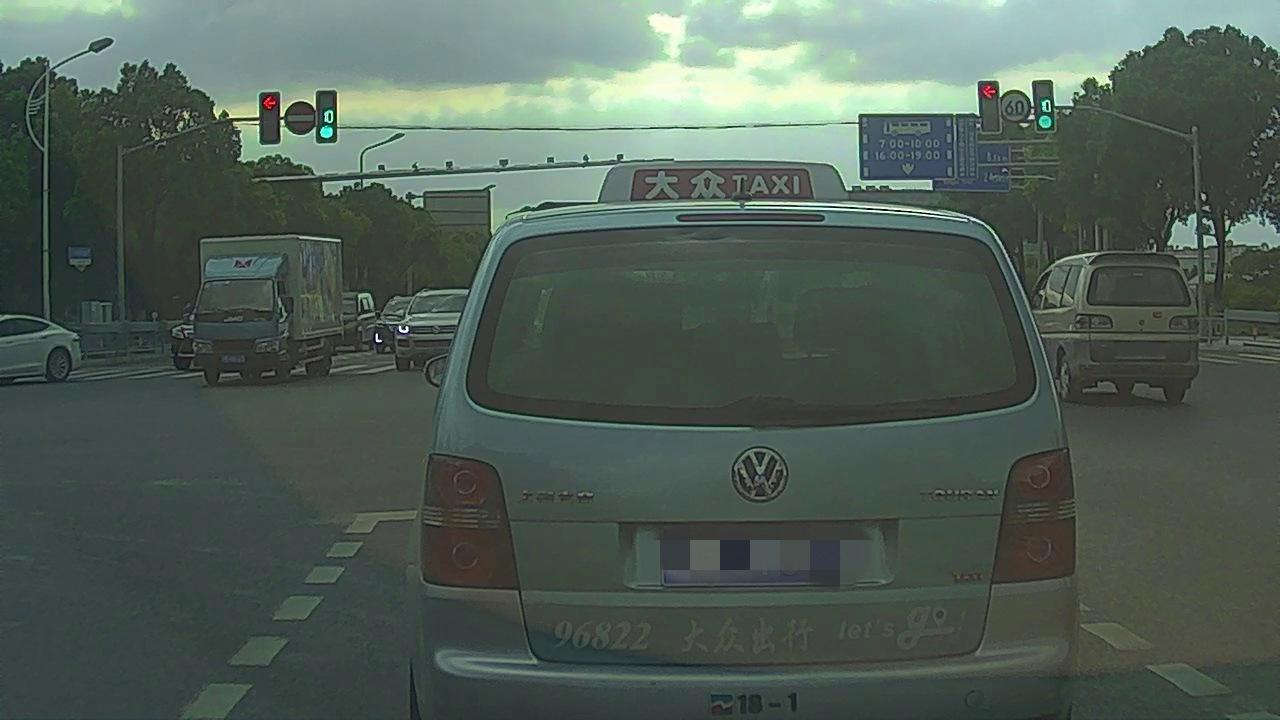traffic_light: (979, 82, 1001, 133), (316, 87, 335, 143), (260, 92, 280, 145), (1034, 82, 1055, 132)
